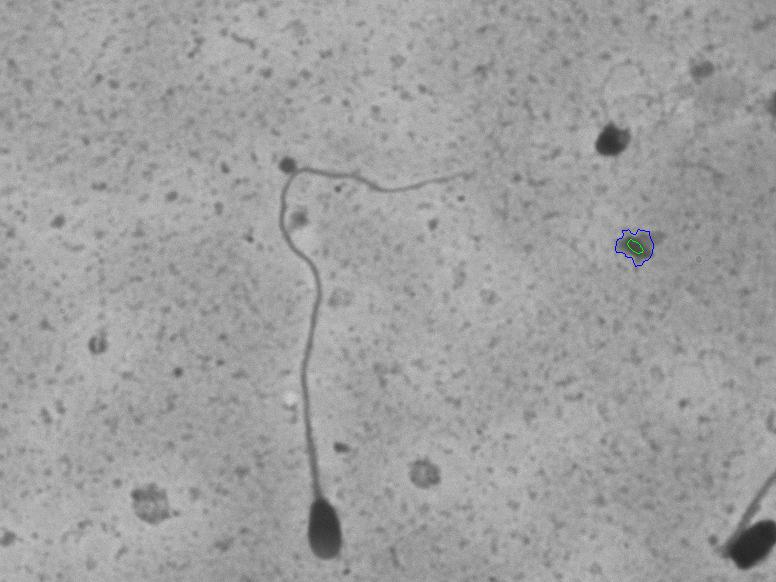Normal: (244, 119, 494, 571)
